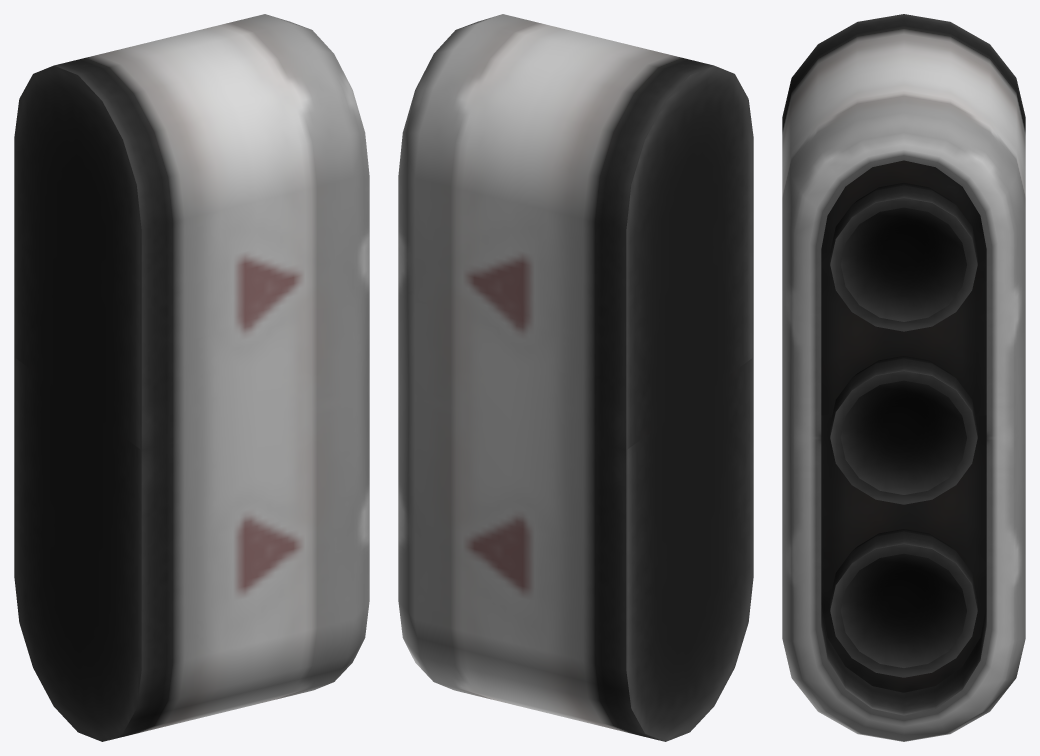
Rendered from Titan_SRB_Separator.dae.
3 renders of one model, left to right at view 1: azimuth 30°, elevation 25°; view 2: azimuth 150°, elevation 25°; view 3: azimuth 270°, elevation 25°, orthographic. The views are drawn at different scales.
Visible parts, largest first — view 1: Titan_Aft_Separatron; view 2: Titan_Aft_Separatron; view 3: Titan_Aft_Separatron, thrustTransform_ncl1_1, thrustTransform, thrustTransform_ncl1_2.
Part boxes in pixels (box(x1,y1,x2,y2)): Titan_Aft_Separatron: box(14, 14, 369, 741); Titan_Aft_Separatron: box(398, 14, 753, 741); Titan_Aft_Separatron: box(782, 14, 1025, 741); thrustTransform_ncl1_1: box(830, 183, 977, 331); thrustTransform: box(830, 356, 977, 504); thrustTransform_ncl1_2: box(830, 529, 977, 677).
Bounding box in the file's own units: 0.312 × 0.8362 × 0.2932.
